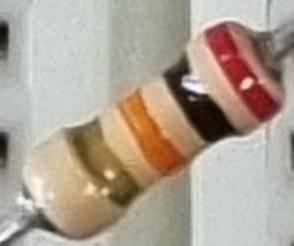Black: (164, 48, 242, 150)
Orange: (113, 88, 188, 177)
Red: (203, 20, 280, 126)
Side-Gold: (60, 122, 143, 215)
